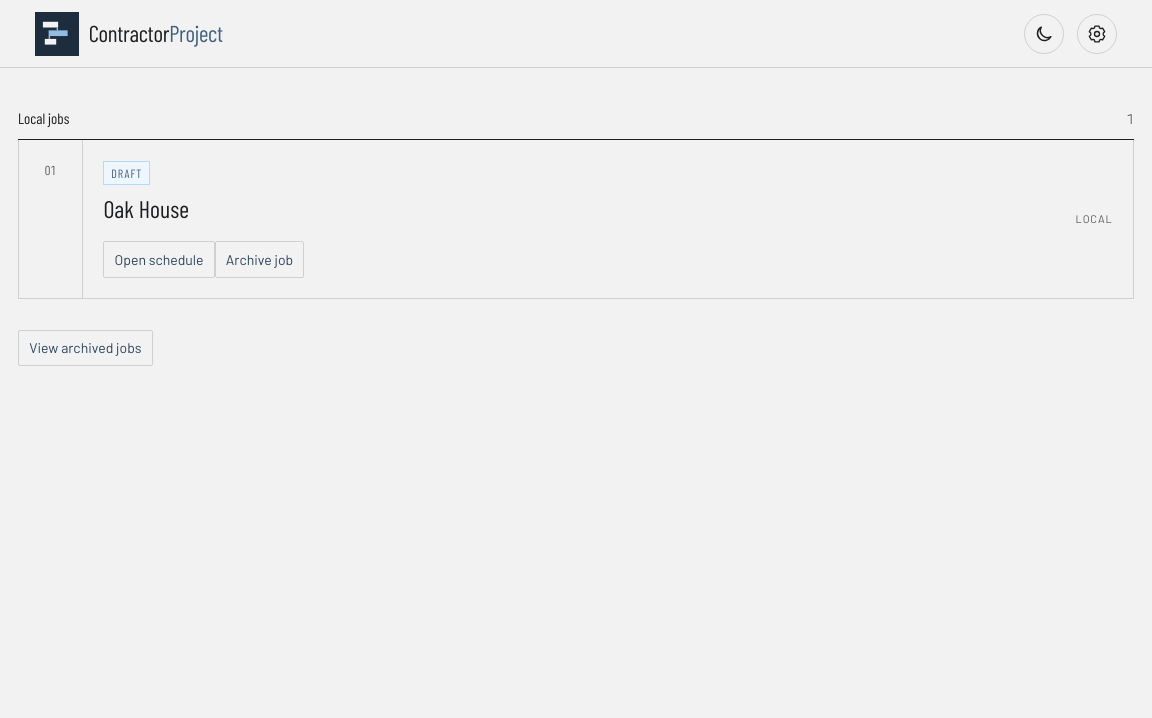
it: workspace state guards › keeps a dirty editor selected when a cancelled picker switch is retried
Click the button with aria-label "Open schedule for Oak House" at (159, 259), box [103,241,215,278]
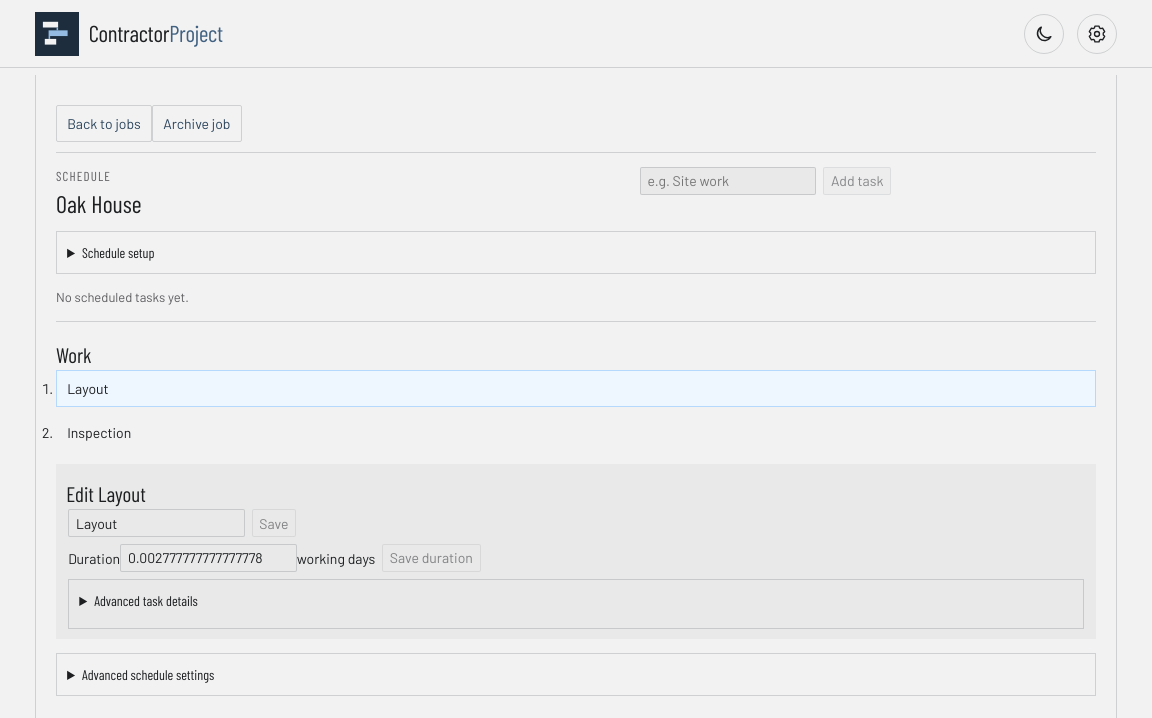
Result: the heading "Edit Layout" is shown at [66,480,146,506]
Type " revised" into the field named "Task name for Layout" at (156, 523), box [68,509,245,537]
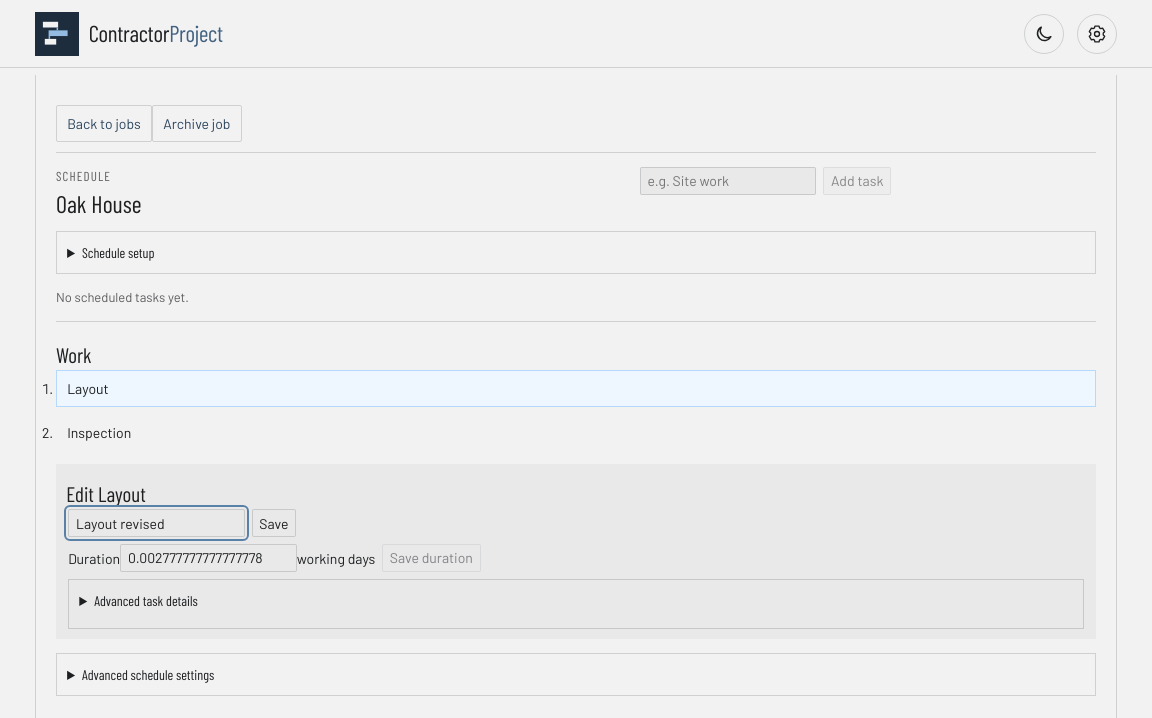
Click the button "Inspection" at (99, 432), box [56,414,1096,450]
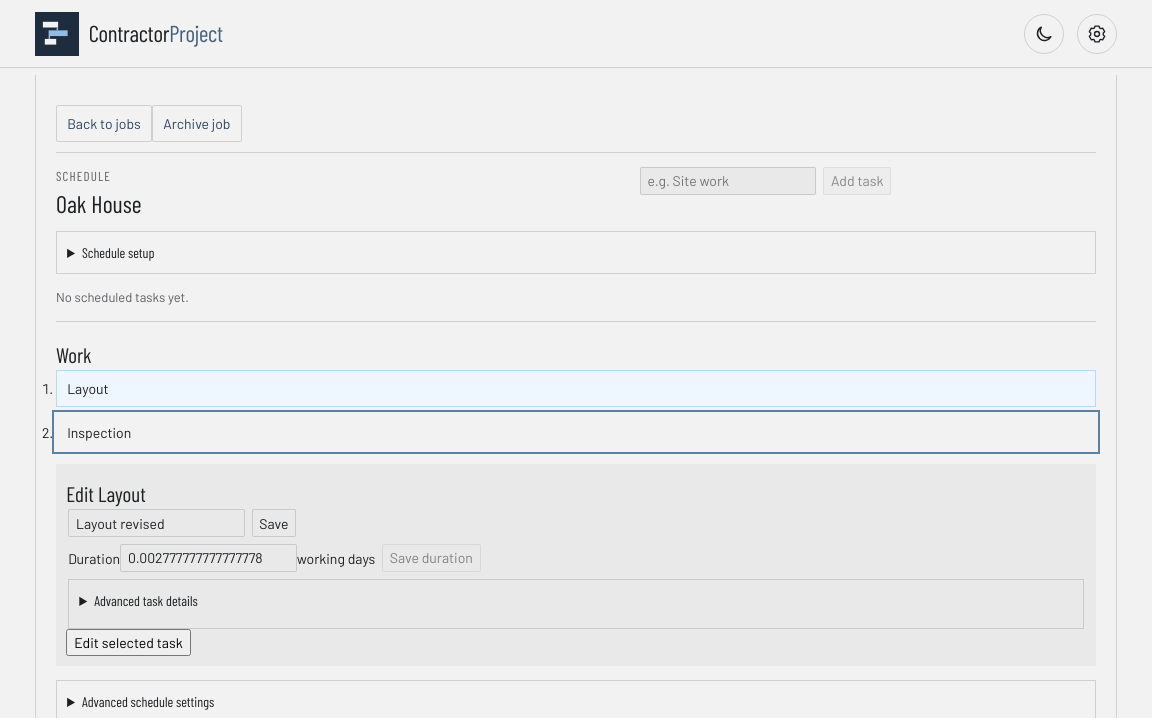
Result: the heading "Edit Layout" is shown at [66,480,146,506]
Click the button "Edit selected task" at (128, 642), box [66,629,191,656]
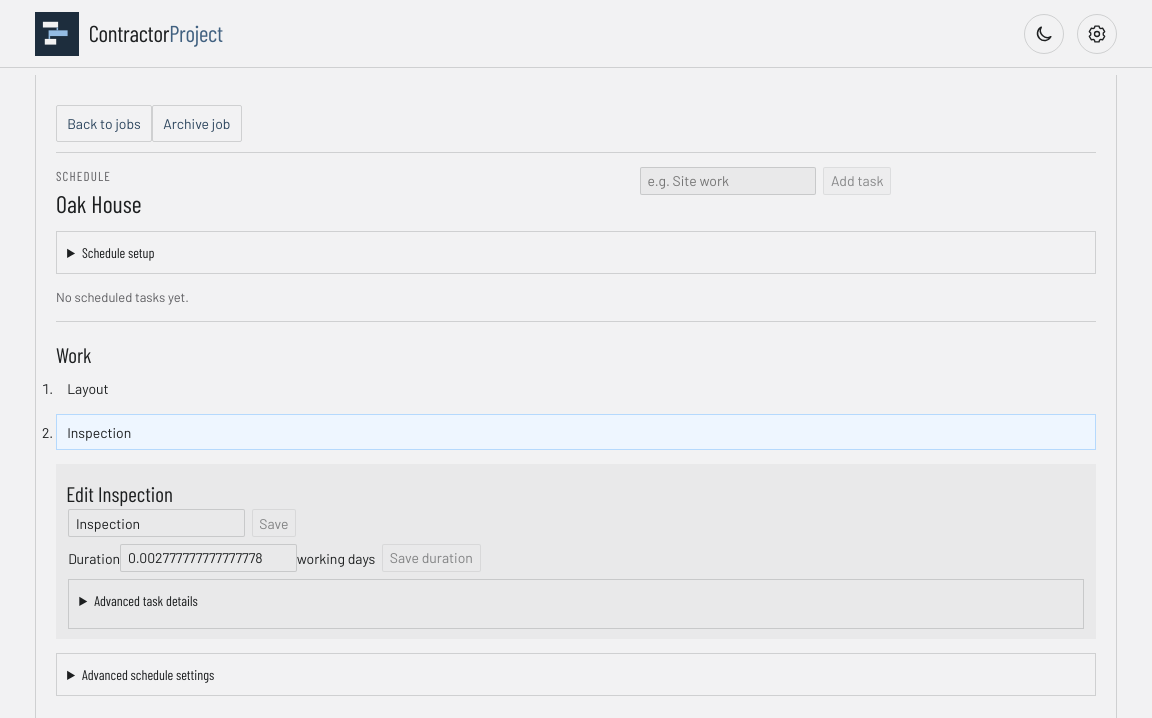
Result: the heading "Edit Inspection" is shown at [66,480,173,506]
